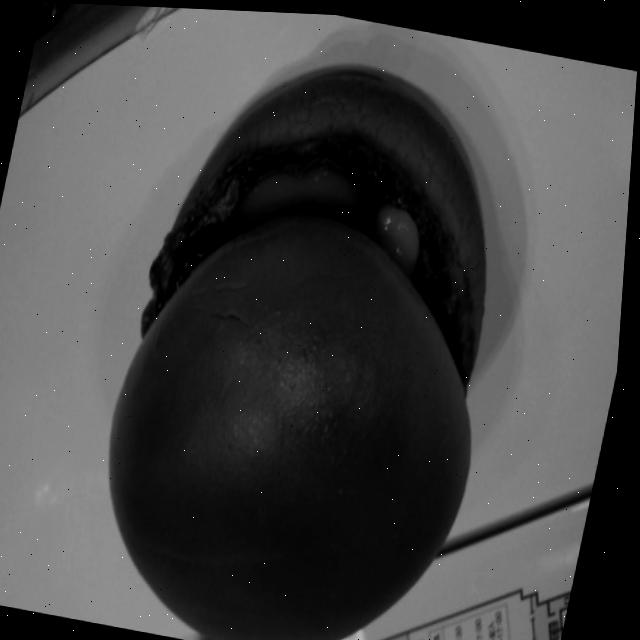汉堡快餐: (80, 62, 545, 640)
